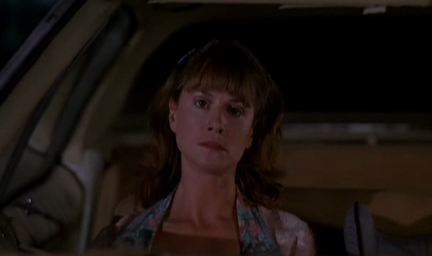cu: (1, 1, 432, 256)
face: (177, 82, 255, 173)
person: (86, 35, 321, 256)
